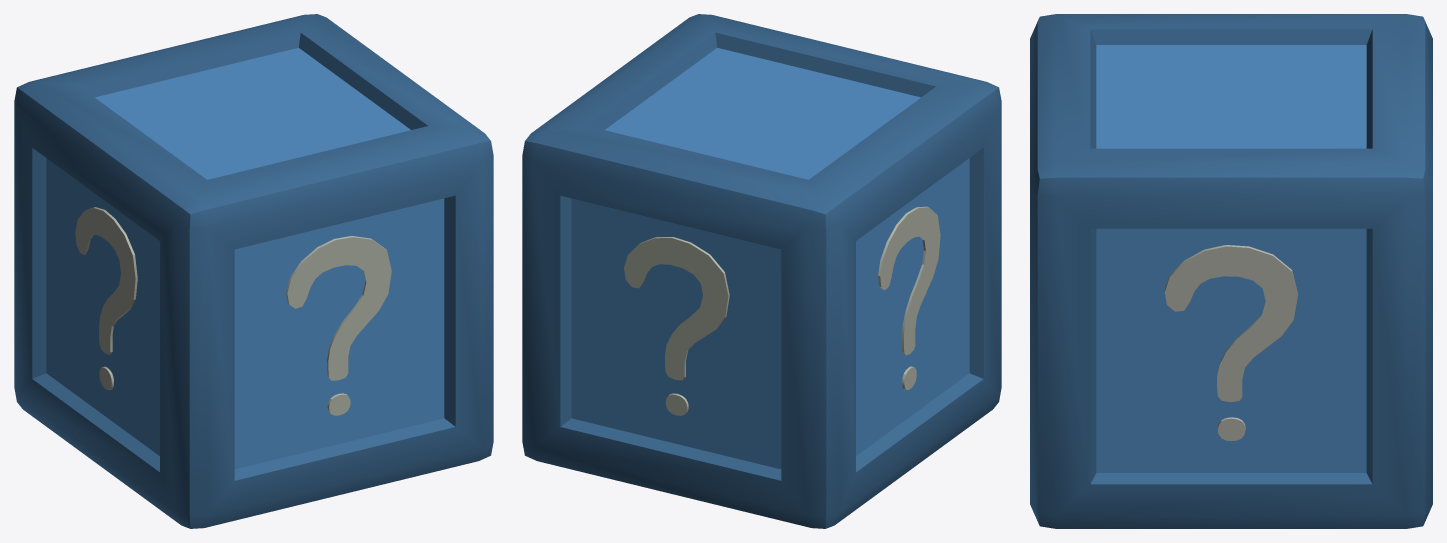
The model's file is Cube_Question.glb.
3 views of the same model, side by side, from view 1: azimuth 30°, elevation 25°; view 2: azimuth 150°, elevation 25°; view 3: azimuth 270°, elevation 25° (orthographic). The views are drawn at different scales.
Parts seen in each view (by area): view 1: Cube_Question; view 2: Cube_Question; view 3: Cube_Question.
Part boxes in pixels (bbox=[...]): Cube_Question: bbox=[14, 14, 493, 528]; Cube_Question: bbox=[522, 14, 1001, 528]; Cube_Question: bbox=[1030, 14, 1432, 528].
Bounding box in the file's own units: 2.02 × 2.02 × 2.02.
